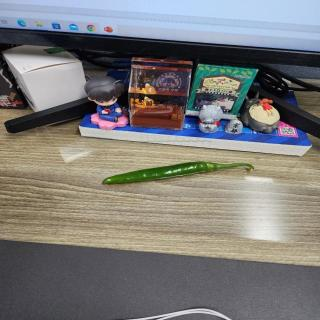Cabai Hijau: (90, 156, 265, 197)
